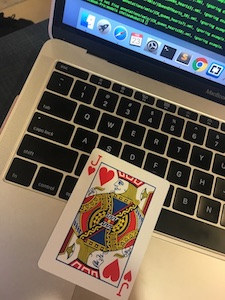JackOfHearts: (38, 147, 171, 300)
